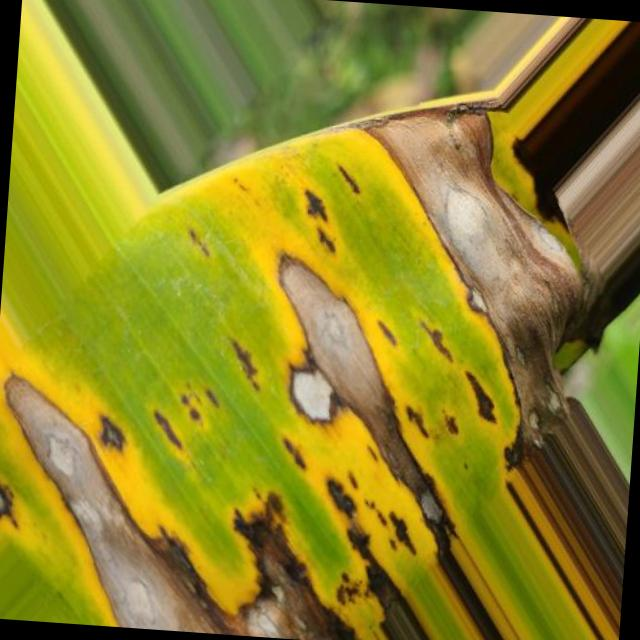Banana_Yellow_Sigatoka: (284, 86, 612, 450), (0, 371, 402, 640)
